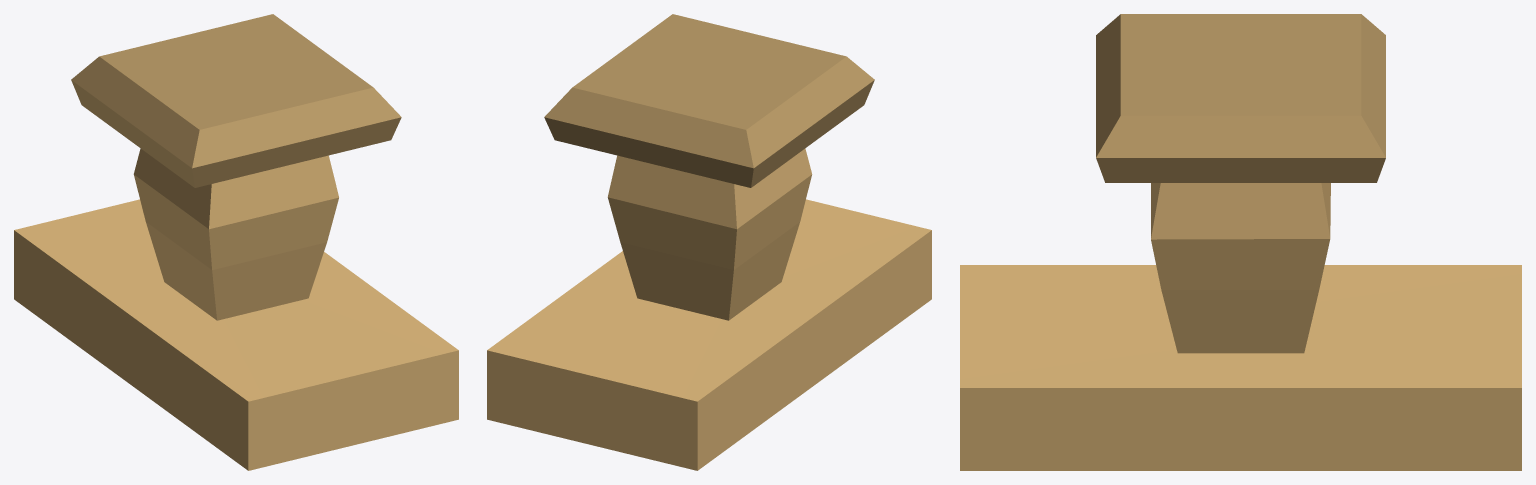
The model's file is StampAccept.fbx.
The picture shows the model from 3 angles, left to right: view 1: azimuth 30°, elevation 25°; view 2: azimuth 150°, elevation 25°; view 3: azimuth 270°, elevation 25°; orthographic projection. The views are drawn at different scales.
Parts seen in each view (by area): view 1: Stamp, Stamp Handle; view 2: Stamp, Stamp Handle; view 3: Stamp, Stamp Handle.
Boxes of the visible parts, box(x1,y1,x2,y2) form: Stamp: box(14, 199, 458, 470); Stamp Handle: box(71, 14, 401, 320); Stamp: box(487, 199, 931, 470); Stamp Handle: box(544, 14, 874, 320); Stamp: box(960, 265, 1521, 470); Stamp Handle: box(1096, 14, 1385, 353).
Size of the model in its own units: 150 by 201 by 289.
5 materials, 5 textured.
